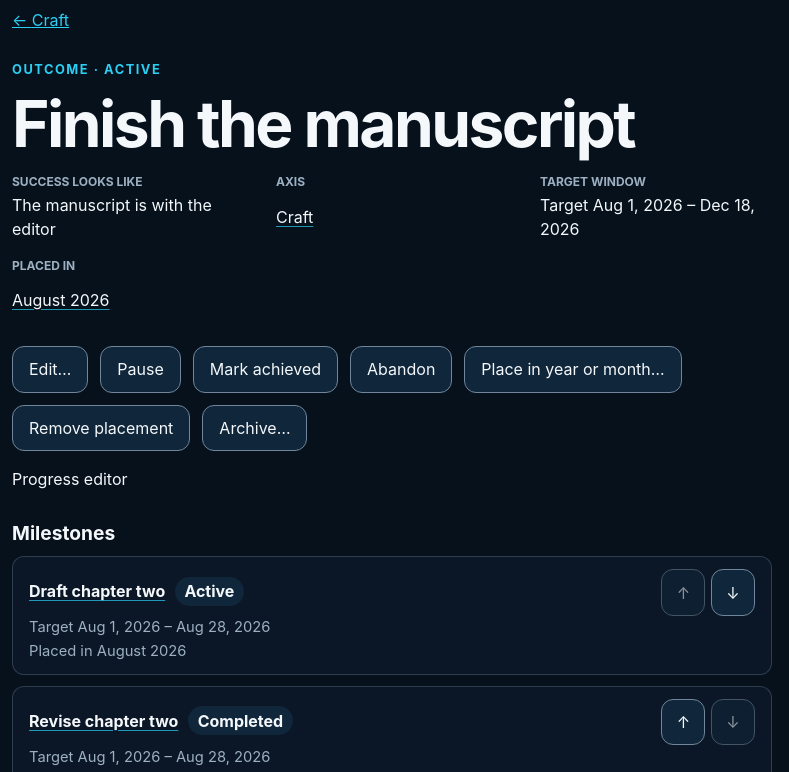
Outcome detail page › offers the state changes of the current state and announces each with Undo
Expected: the button "Mark achieved" is shown, [193,346,338,393]
Expected: the button "Abandon" is shown, [350,346,452,393]
Step 1. Click the button "Pause" → (141, 369), box [100,346,181,393]
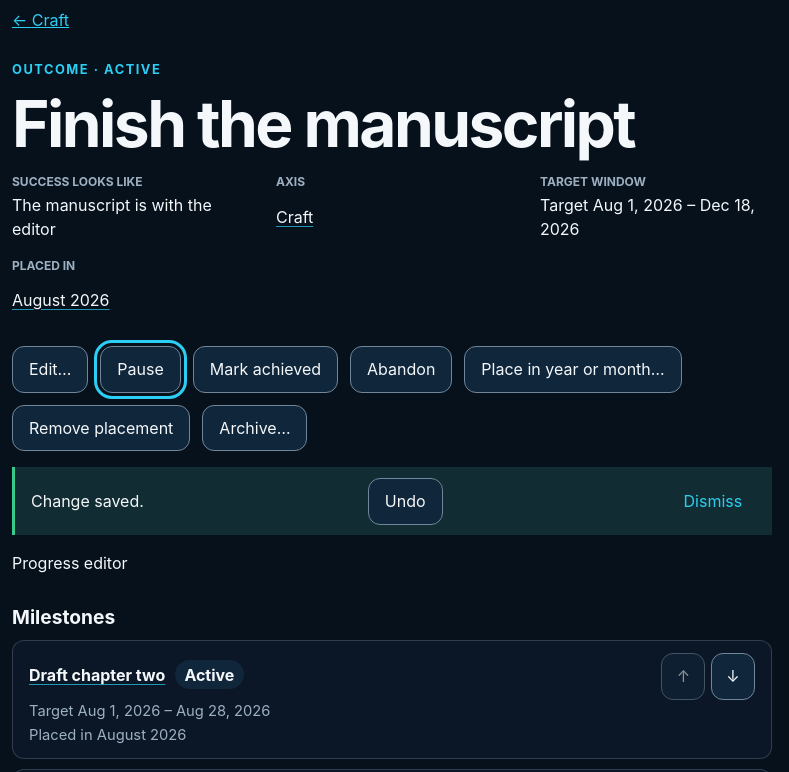
Result: the button "Undo" is shown at [368,478,443,525]
